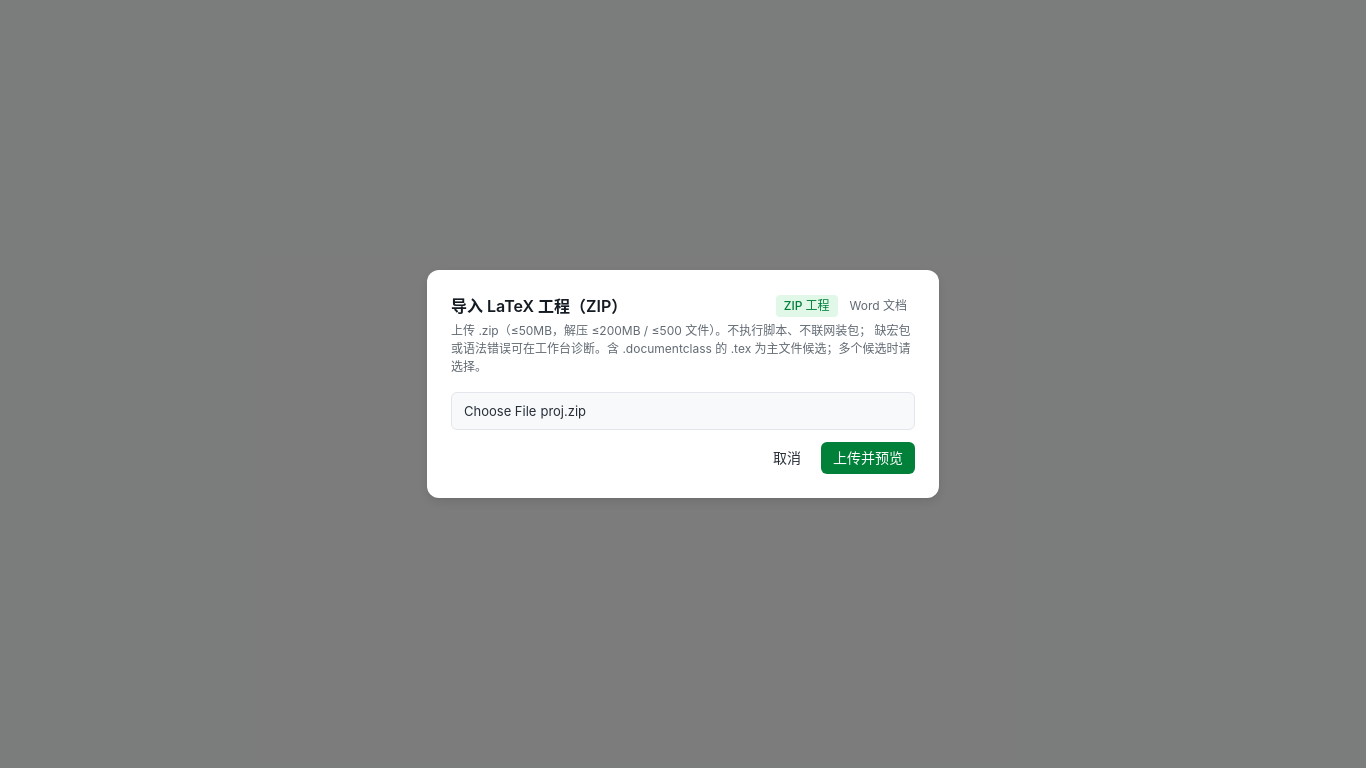
it: ImportDialog（LaTeX ZIP 工程导入） › 上传拒绝：原因逐条展示，不进入创建步骤
Earlier steps of the test are not shown.
Click the button with test id "import-upload". click: click(868, 458)
box: [821, 442, 915, 474]
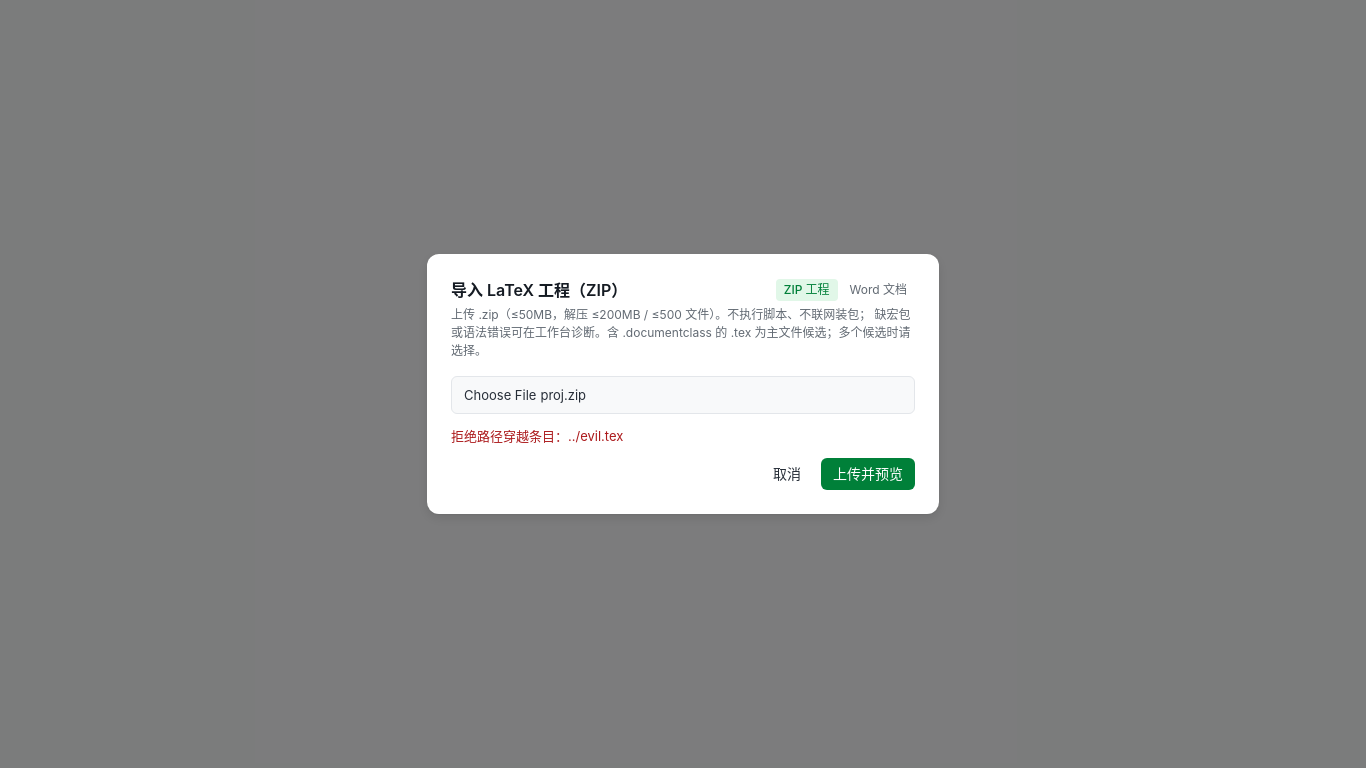
Expected: the text with test id "import-err" shows "拒绝路径穿越条目", [451, 428, 623, 444]
